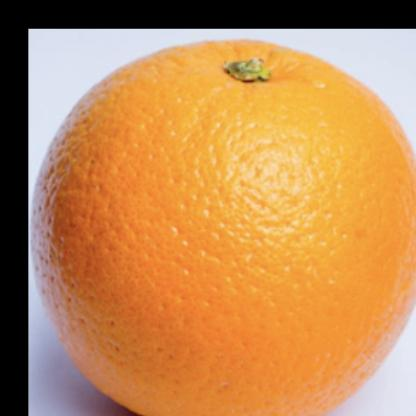fresh: (28, 38, 416, 416)
